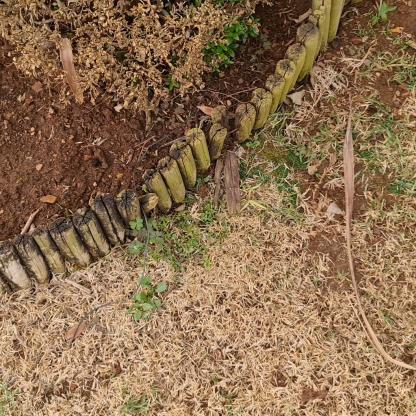Weeds: (124, 276, 168, 324), (125, 216, 164, 256), (372, 2, 399, 26)
